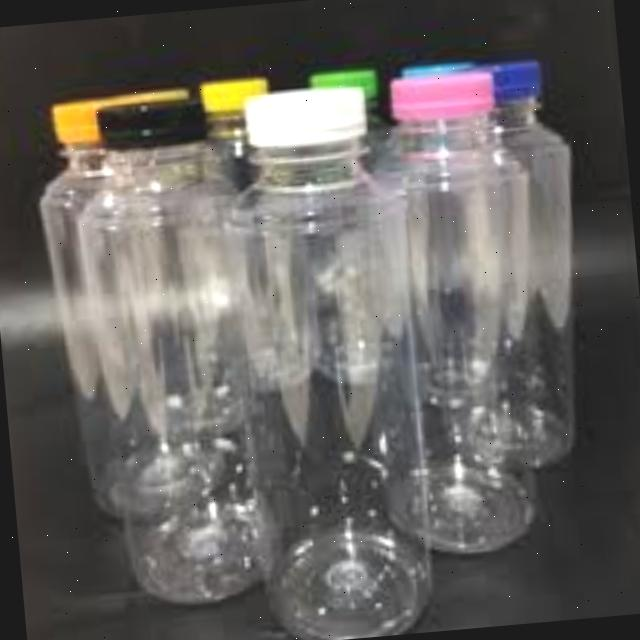trash: (213, 80, 450, 640), (61, 90, 266, 618), (363, 60, 544, 562), (28, 91, 189, 532), (464, 52, 598, 482)
